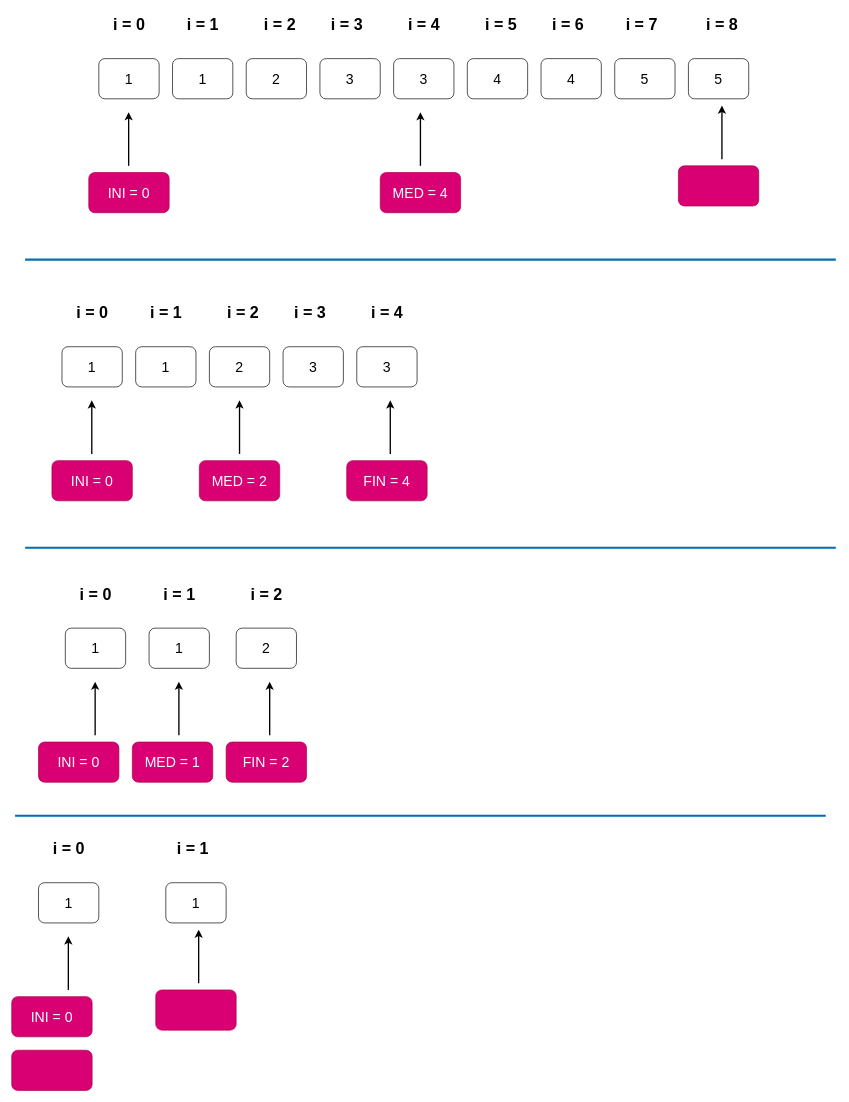
Some shapes in this 849 by 1102 pixel diagram are drawn without their labels. The shapes that lost their labels are listed below. From the top down, each one's centre as x and y in pixels, then its label:
At pixel 718 185: "FIN = 8".
At pixel 195 1009: "FIN = 1".
At pixel 51 1070: "MED = 0".
